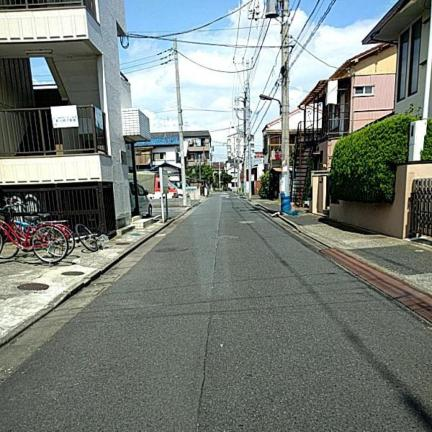Road: (0, 195, 431, 431)
